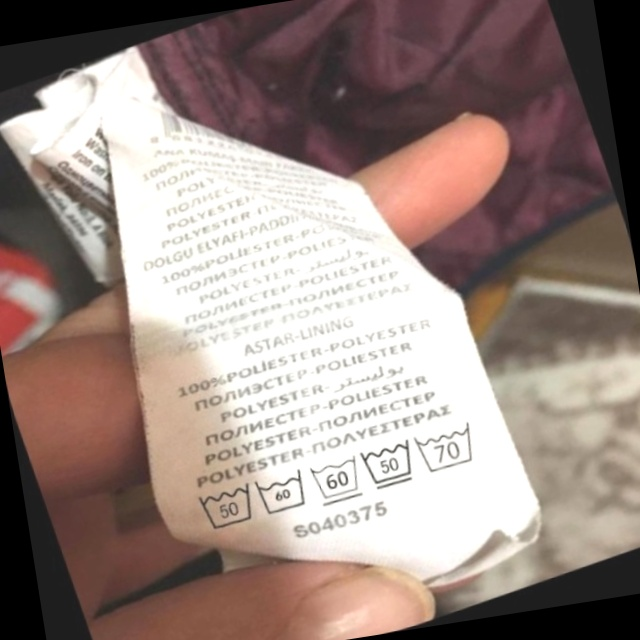50C: (187, 470, 267, 542), (354, 430, 427, 499)
60C: (304, 445, 374, 512), (248, 460, 319, 525)
70C: (410, 413, 490, 480)
